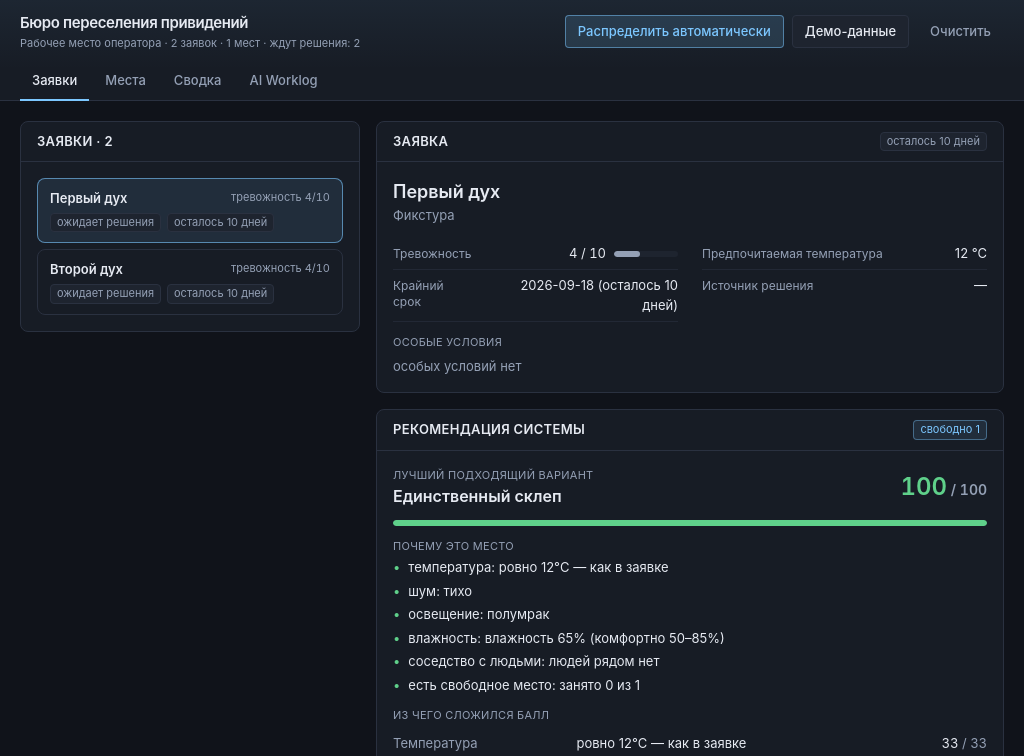
Test case: исправления по итогам ревью › нехватка мест объясняется как ожидание, а не как невозможность
Step 1. Click the button "Распределить автоматически" → (674, 32), box [565, 15, 784, 48]
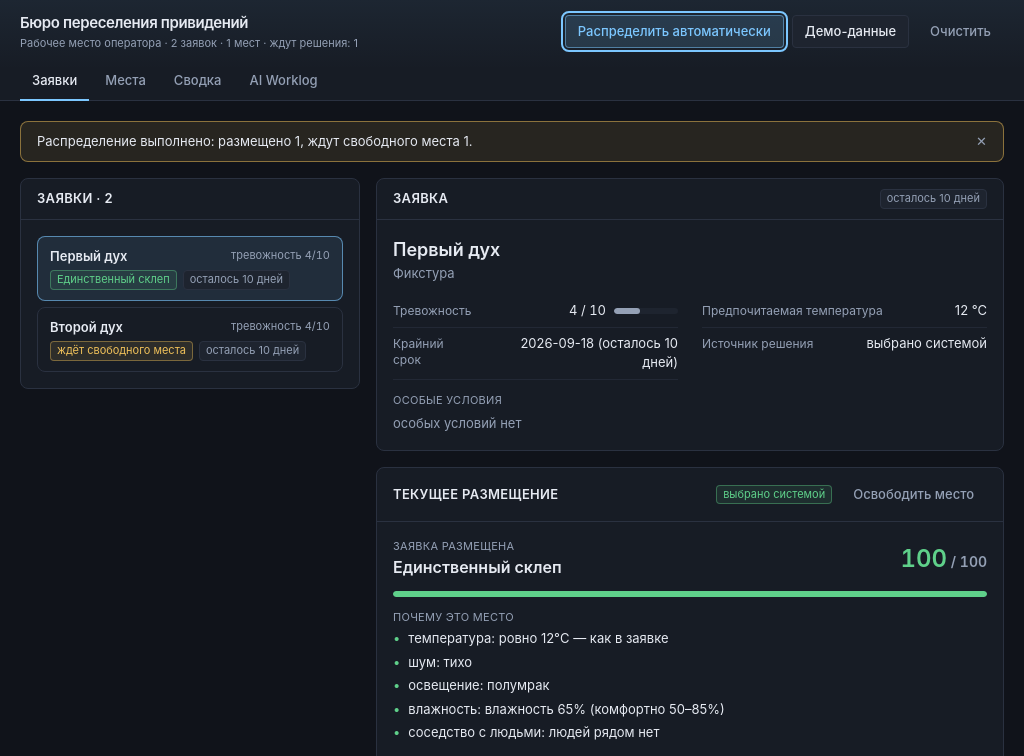
Result: the text "ждут свободного места 1" is shown at [37, 132, 472, 148]
Step 2. Click the button "Второй дух" → (190, 339), box [37, 307, 343, 372]
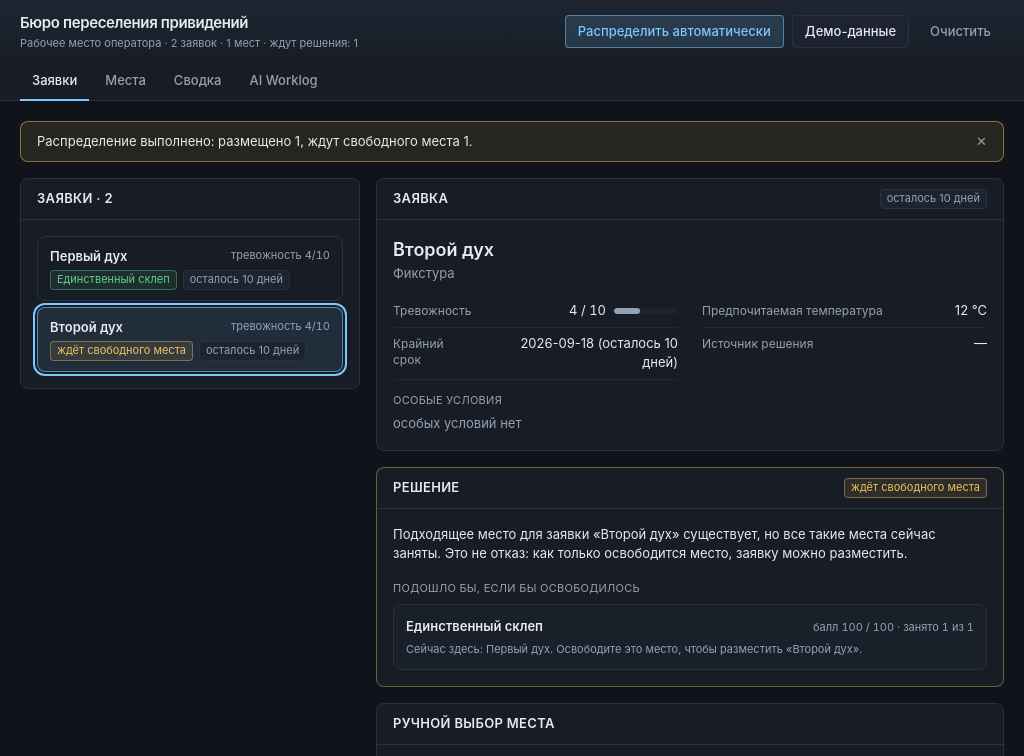
Result: the text "Подошло бы, если бы освободилось" is shown at [393, 580, 640, 594]
